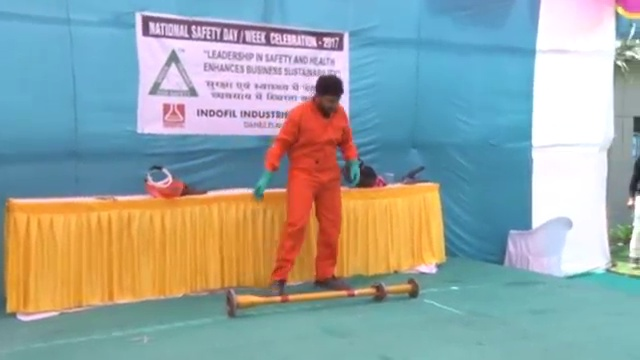helmet_off: (312, 73, 344, 114)
person: (256, 74, 350, 305), (625, 153, 640, 266)
